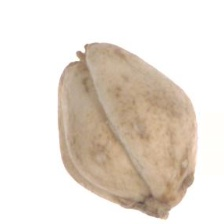L1: (61, 41, 102, 75), (133, 195, 184, 220)
L2: (57, 42, 199, 218)
